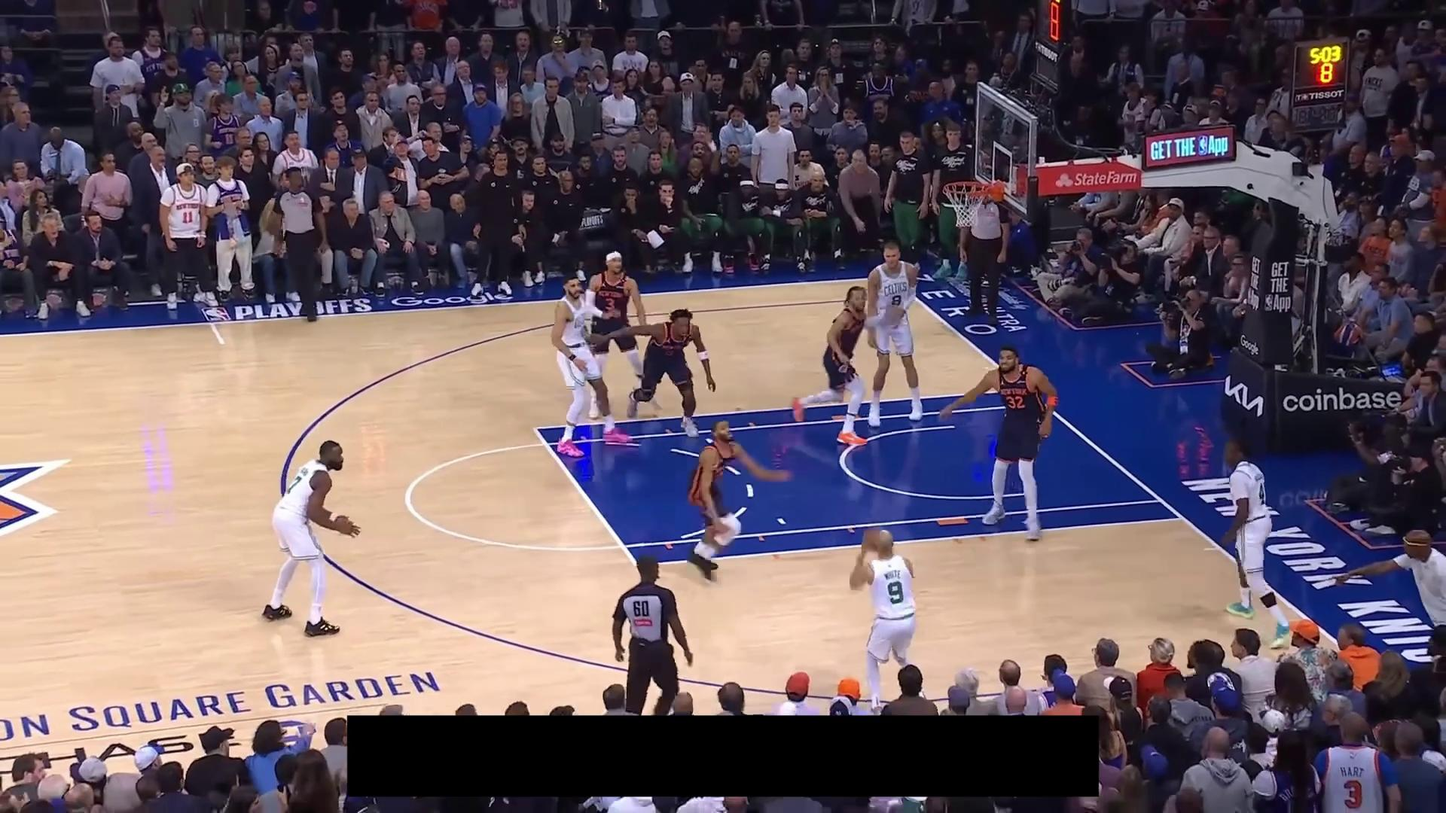ball: (862, 527, 889, 555)
number: (887, 580, 904, 605), (286, 475, 304, 495), (1005, 394, 1024, 410), (1257, 482, 1267, 506), (890, 293, 903, 308), (605, 297, 615, 311)
player: (938, 342, 1058, 542), (259, 437, 362, 638), (789, 283, 903, 448), (683, 416, 794, 585), (582, 307, 716, 440), (1219, 434, 1296, 653), (551, 273, 636, 459), (579, 248, 667, 420), (848, 525, 925, 713), (863, 238, 926, 428)
referee: (612, 553, 694, 715), (264, 166, 328, 323), (957, 178, 1011, 324)
rim: (942, 181, 990, 196)
